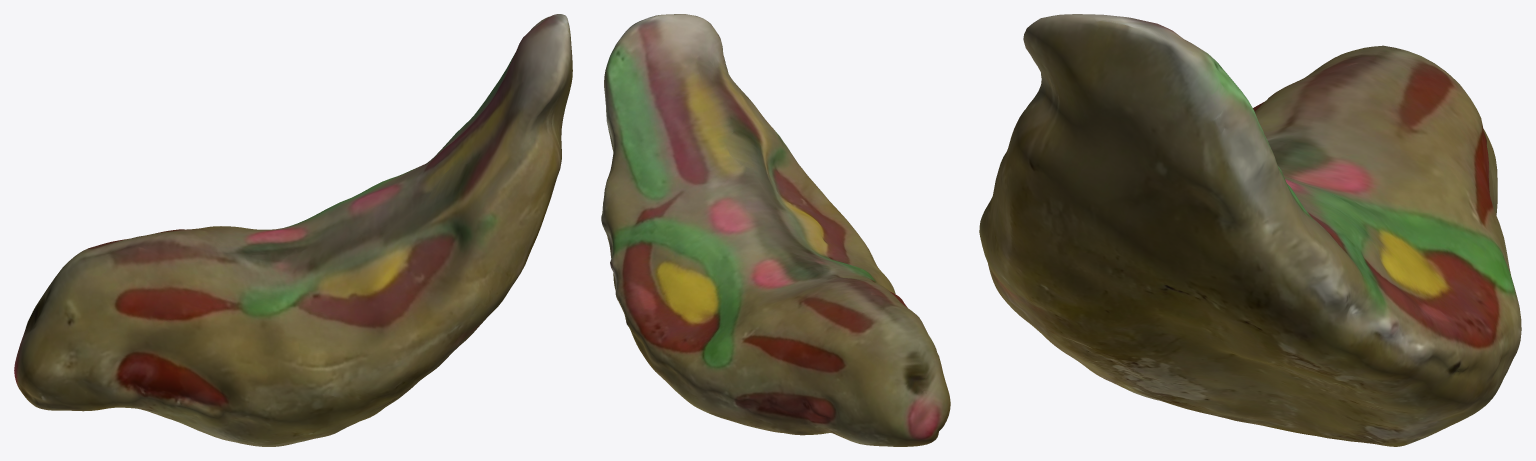
The picture shows the model from 3 angles, left to right: view 1: azimuth 30°, elevation 25°; view 2: azimuth 150°, elevation 25°; view 3: azimuth 270°, elevation 25°; orthographic projection. The views are drawn at different scales.
Size of the model in its own units: 0.4332 by 0.3364 by 0.2893.
1 material, 1 textured.
